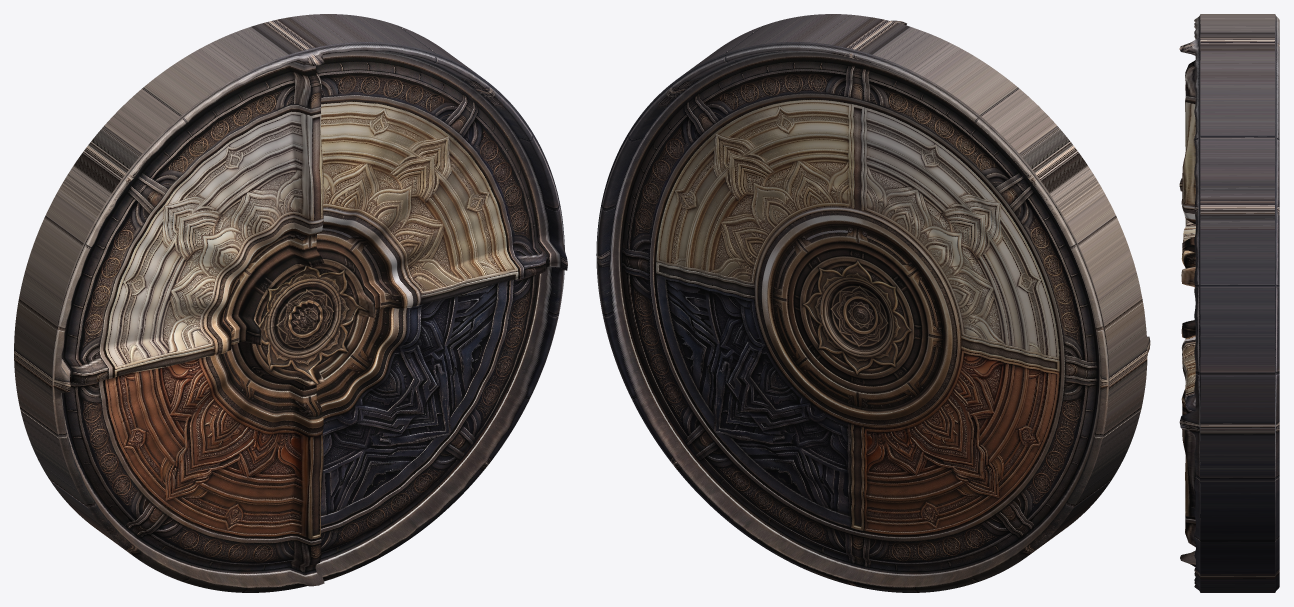
Rendered from chakra_medallion.glb.
3 renders of one model, left to right at view 1: azimuth 30°, elevation 25°; view 2: azimuth 150°, elevation 25°; view 3: azimuth 270°, elevation 25°, orthographic. The views are drawn at different scales.
Visible parts, largest first — view 1: Chakra_Medallion; view 2: Chakra_Medallion; view 3: Chakra_Medallion.
Boxes of the visible parts, <box> form: Chakra_Medallion: <box>14,14,567,592</box>; Chakra_Medallion: <box>596,14,1150,592</box>; Chakra_Medallion: <box>1179,14,1279,592</box>.
Size of the model in its own units: 2 by 2 by 0.3473.
Materials: 1 (1 with a texture image).
